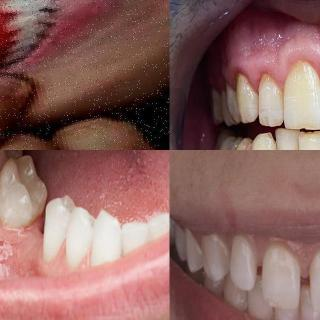Gum Swelling: (0, 8, 9, 72)
maligned: (248, 130, 274, 150), (295, 130, 320, 149)
plaque: (234, 64, 252, 98)
